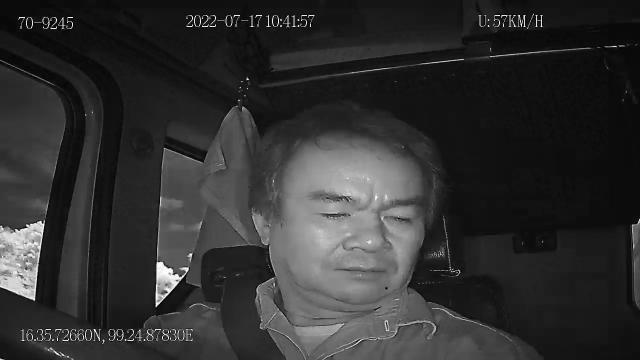SafeDriving: (306, 197, 359, 226)
Seatbelt: (220, 272, 288, 360)
